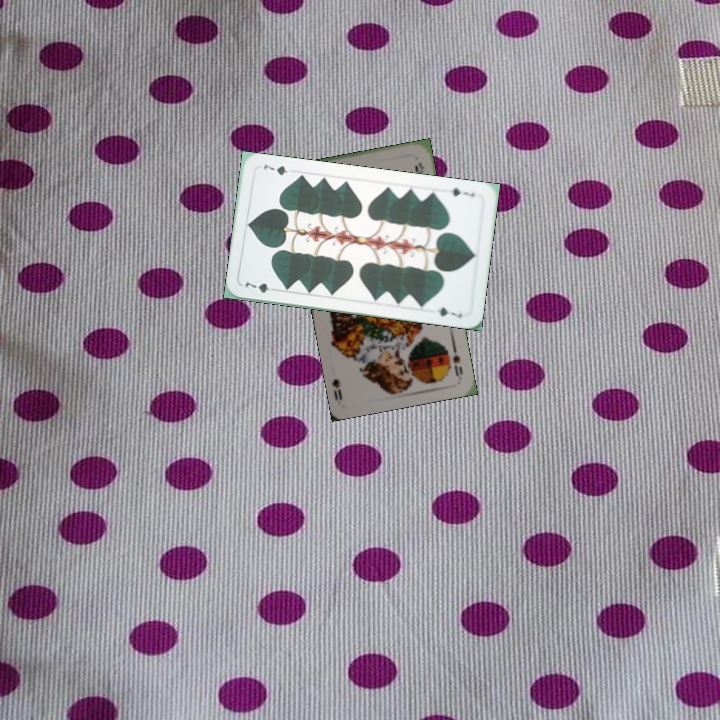G7: (241, 278, 280, 296), (447, 183, 477, 199)
SO: (448, 340, 465, 379)
